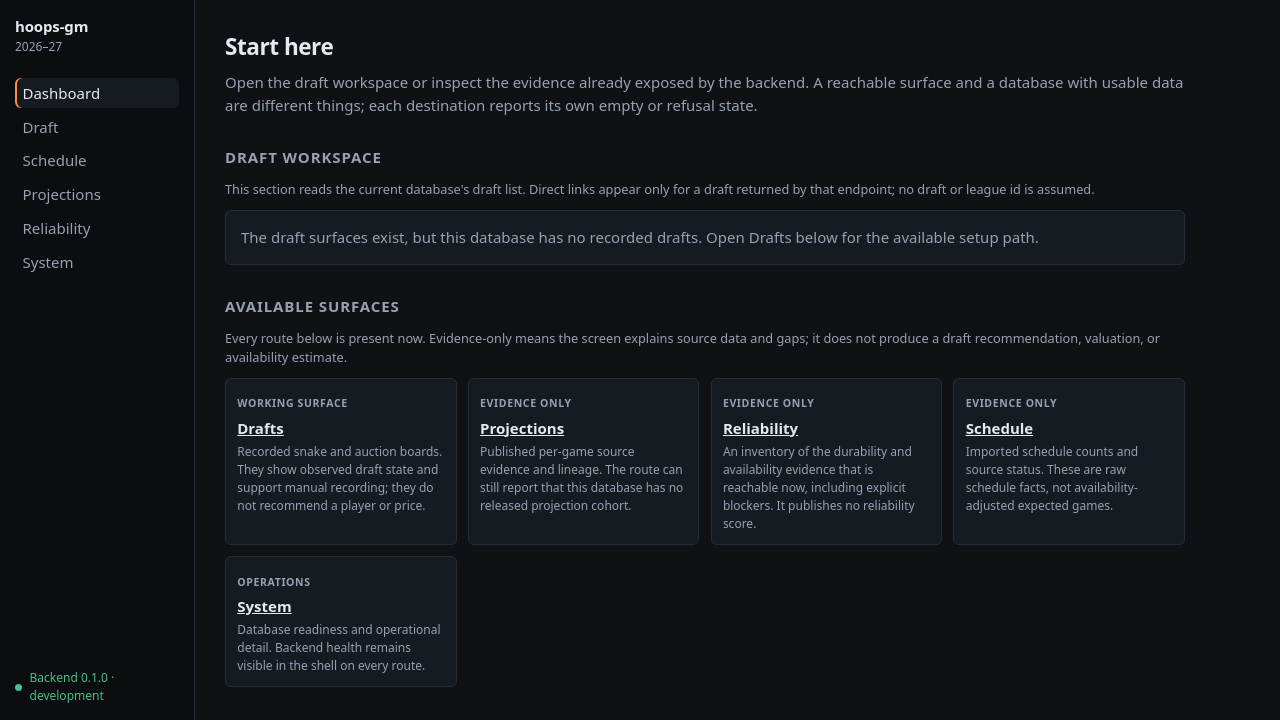
the dashboard shell › navigates to the system page and shows database readiness
Click the link "System" below "Dashboard" at x=48, y=262, box [22,252,74,272]
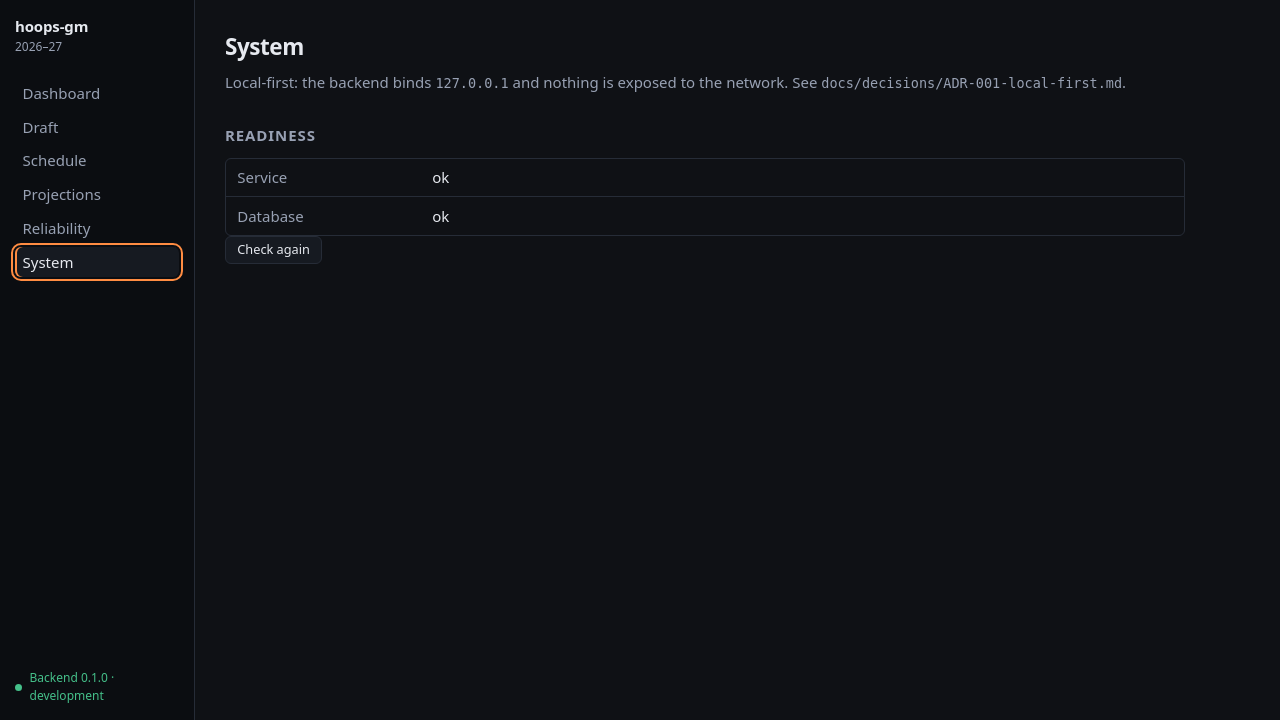
Expected: the heading "System" is shown, [225,31,304,62]
Expected: the text with test id "readiness-database" reads "ok", [432,206,449,226]
